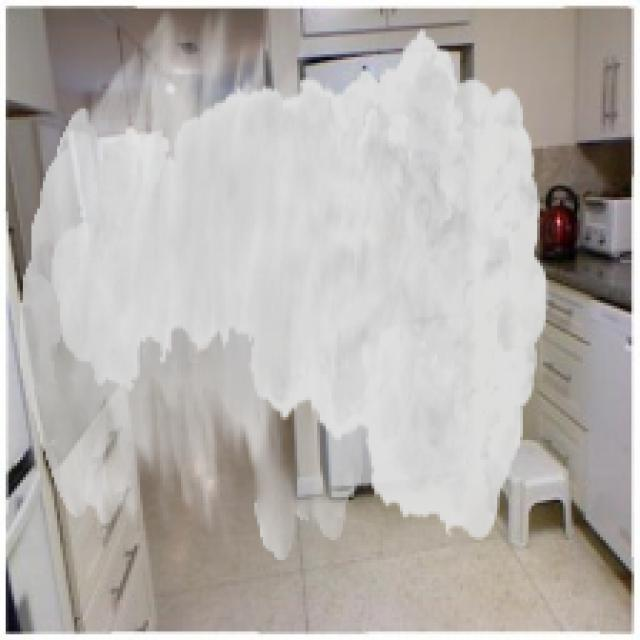Smoke: (20, 6, 549, 560)
